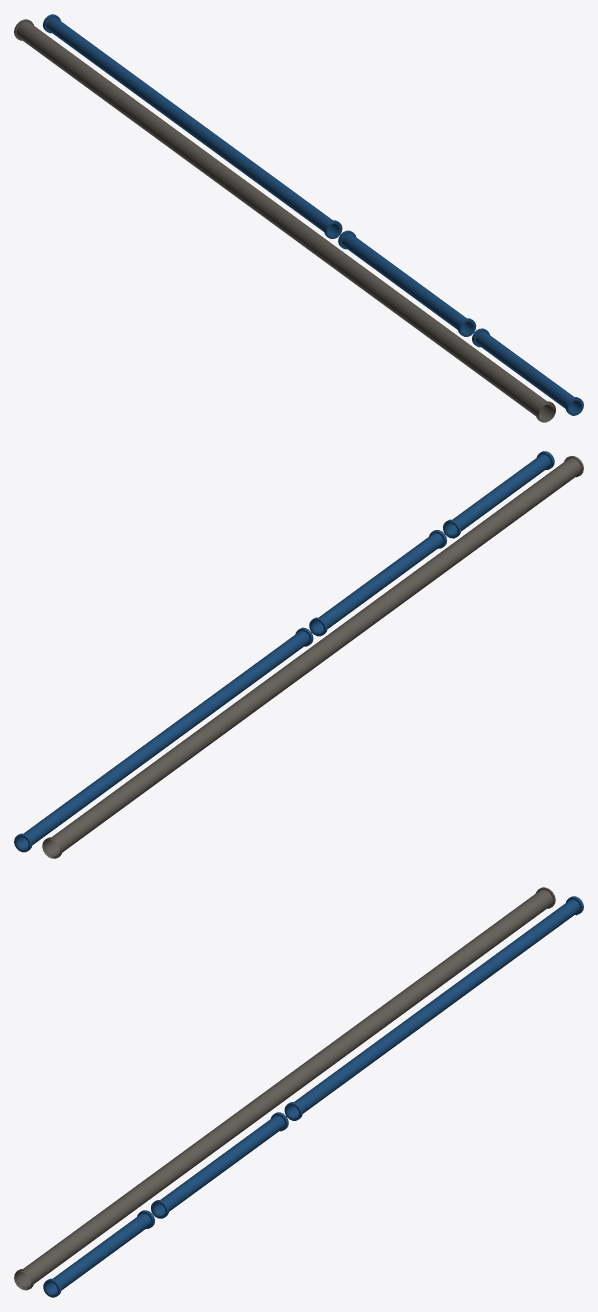
Rendered from SM_H_Building_Tide_Loungehall_25B_ATLAS.fbx.
3 views of the same model, one above another, from view 1: azimuth 30°, elevation 25°; view 2: azimuth 150°, elevation 25°; view 3: azimuth 330°, elevation 25° (orthographic).
Visible parts, largest first — view 1: SM_H_Building_Tide_Loungehall_25B_ATLAS; view 2: SM_H_Building_Tide_Loungehall_25B_ATLAS; view 3: SM_H_Building_Tide_Loungehall_25B_ATLAS.
Boxes of the visible parts, x1,y1,x2,y2 form: SM_H_Building_Tide_Loungehall_25B_ATLAS: (14, 14, 583, 422); SM_H_Building_Tide_Loungehall_25B_ATLAS: (14, 451, 583, 858); SM_H_Building_Tide_Loungehall_25B_ATLAS: (14, 887, 583, 1297).
Bounding box in the file's own units: 171 × 3341 × 71.6.
